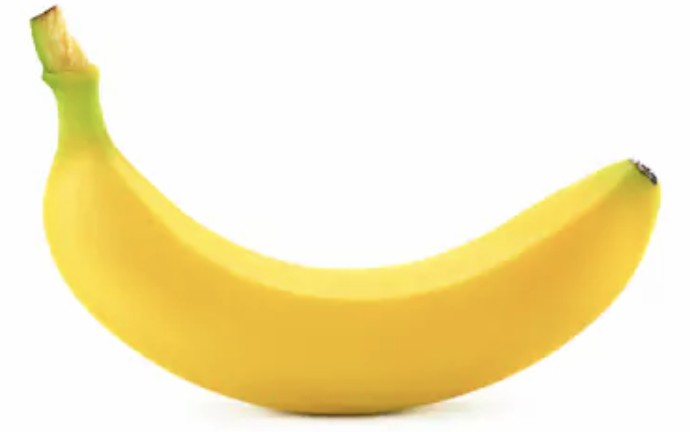fresh_banana: (29, 3, 658, 417)
